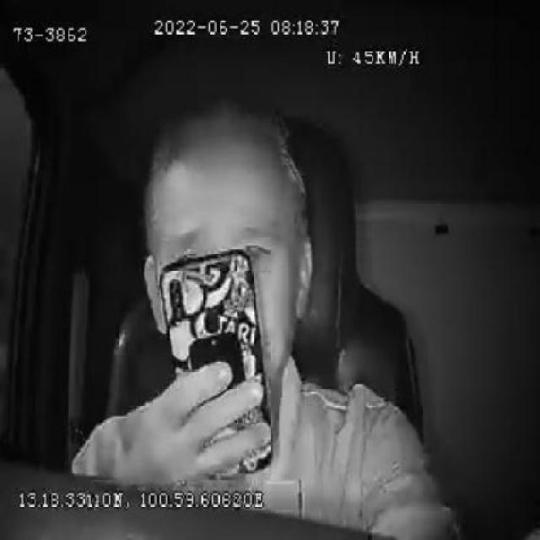phone: (158, 247, 273, 477)
